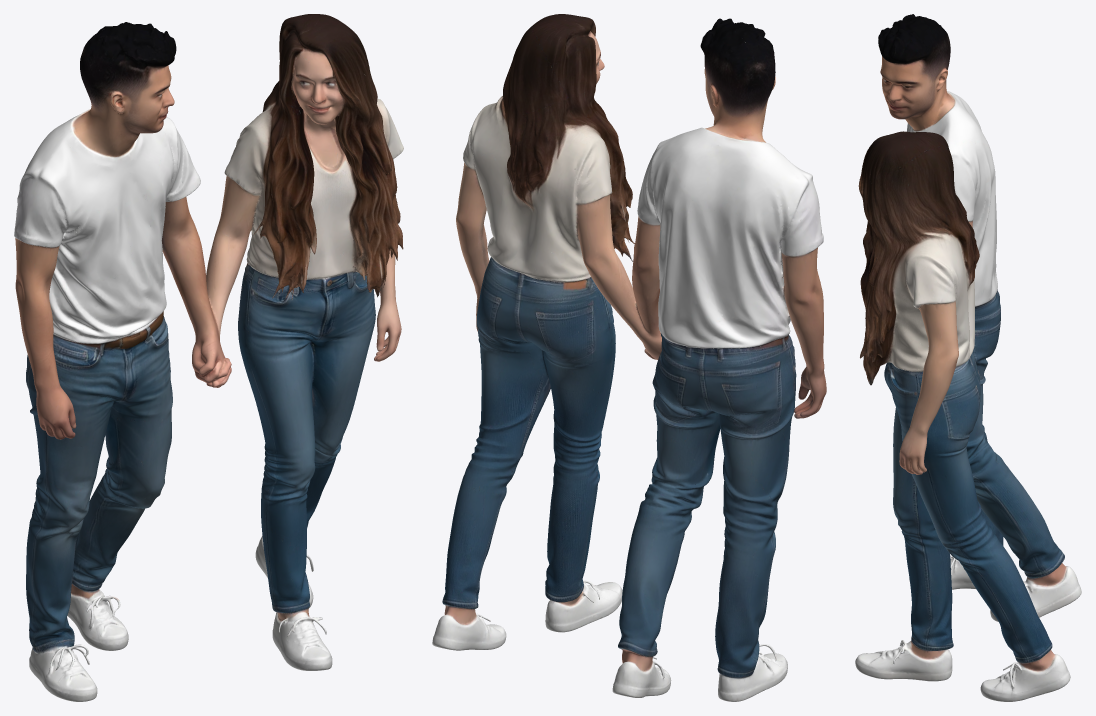
The picture shows the model from 3 angles, left to right: view 1: azimuth 30°, elevation 25°; view 2: azimuth 150°, elevation 25°; view 3: azimuth 270°, elevation 25°; orthographic projection. The views are drawn at different scales.
Visible parts, largest first — view 1: mesh_0; view 2: mesh_0; view 3: mesh_0.
Part boxes in pixels (box(x1,y1,x2,y2)): mesh_0: box(14, 14, 403, 701); mesh_0: box(432, 14, 826, 701); mesh_0: box(855, 14, 1081, 701).
Size of the model in its own units: 1.12 by 1.9 by 0.6677.
1 material, 1 textured.
